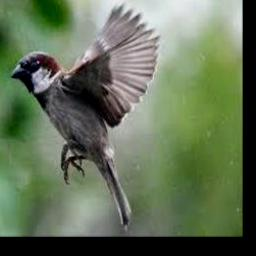Sparrow: (11, 3, 160, 228)
